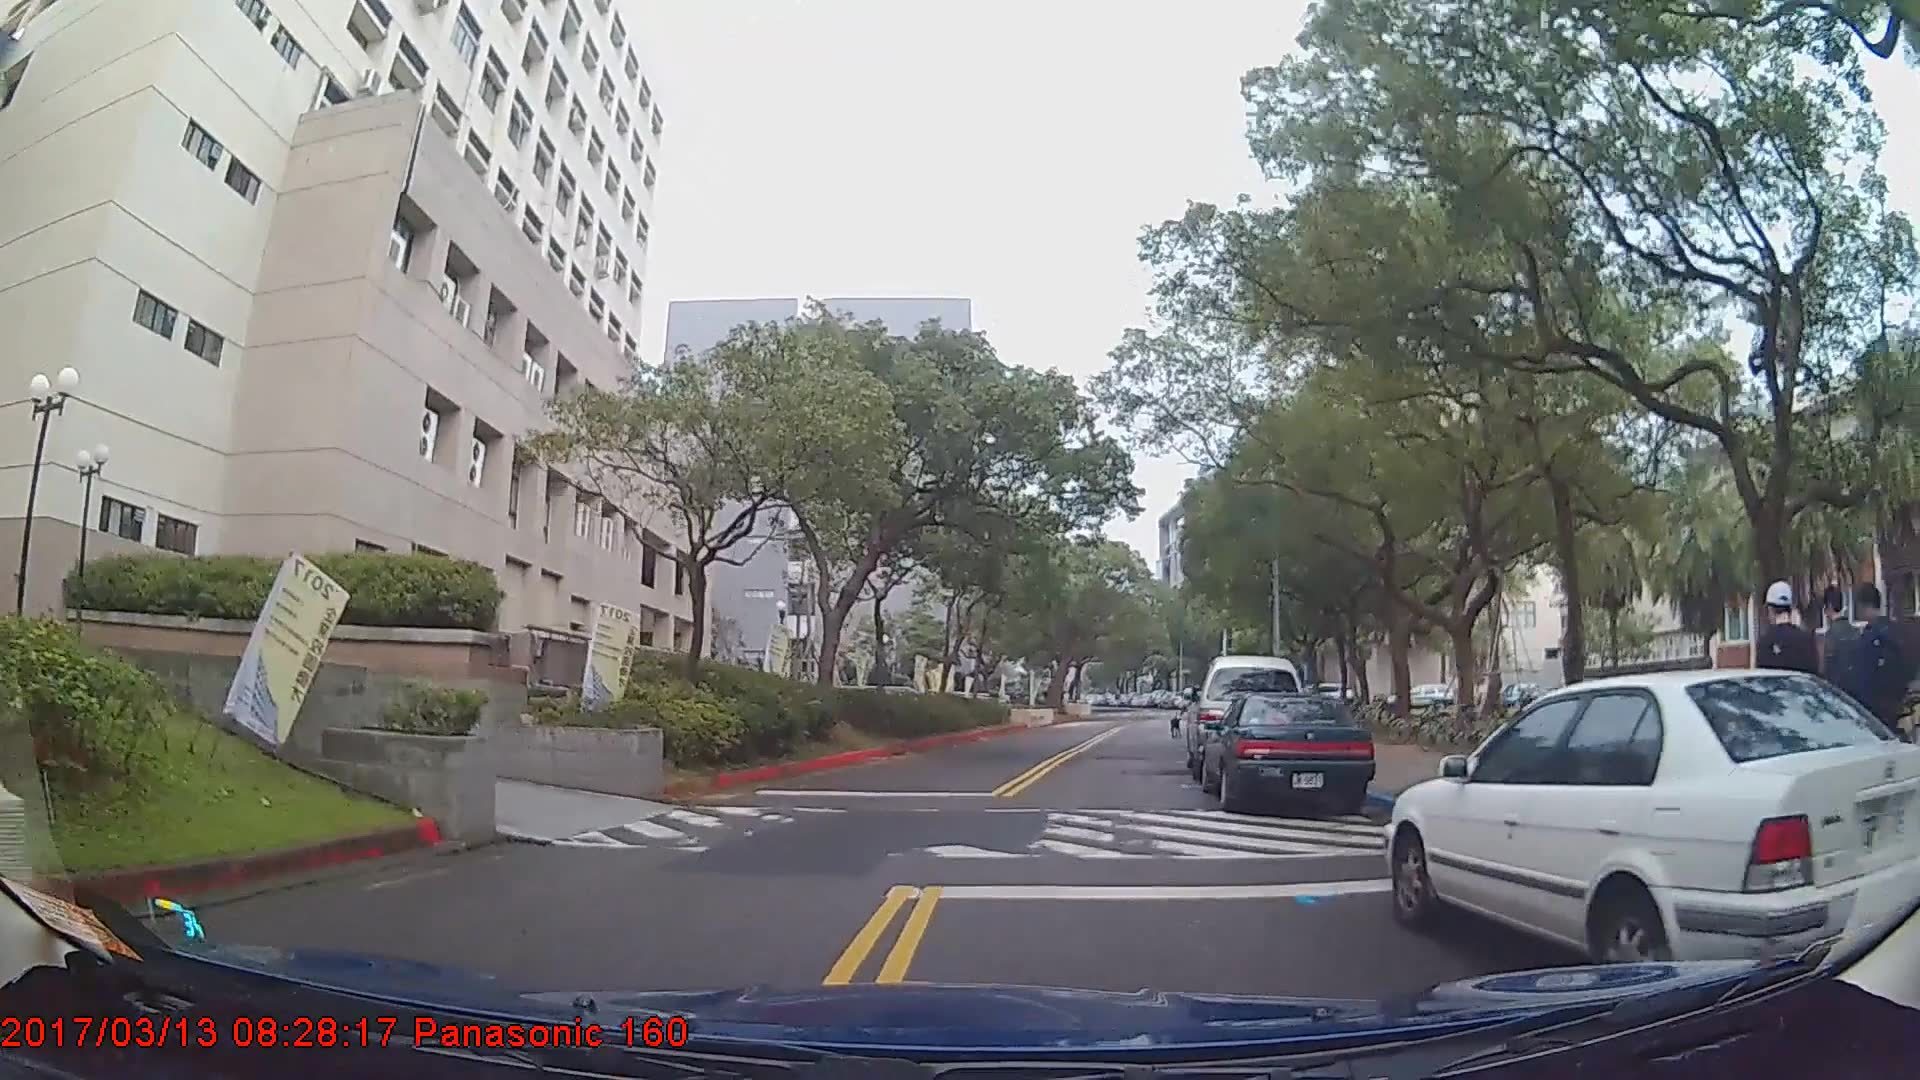pedestrian: (1806, 578, 1903, 821), (1753, 581, 1825, 834)
vehicle: (1387, 665, 1920, 1006), (1197, 689, 1375, 813)
